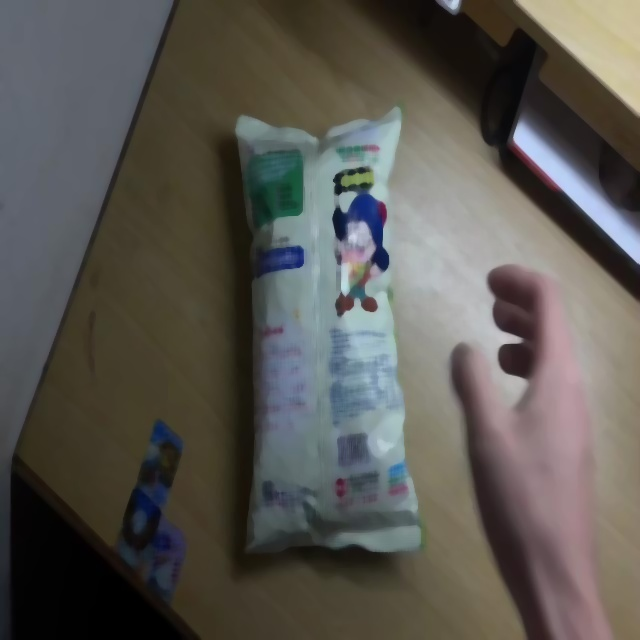Good-Luck: (235, 98, 426, 563)
